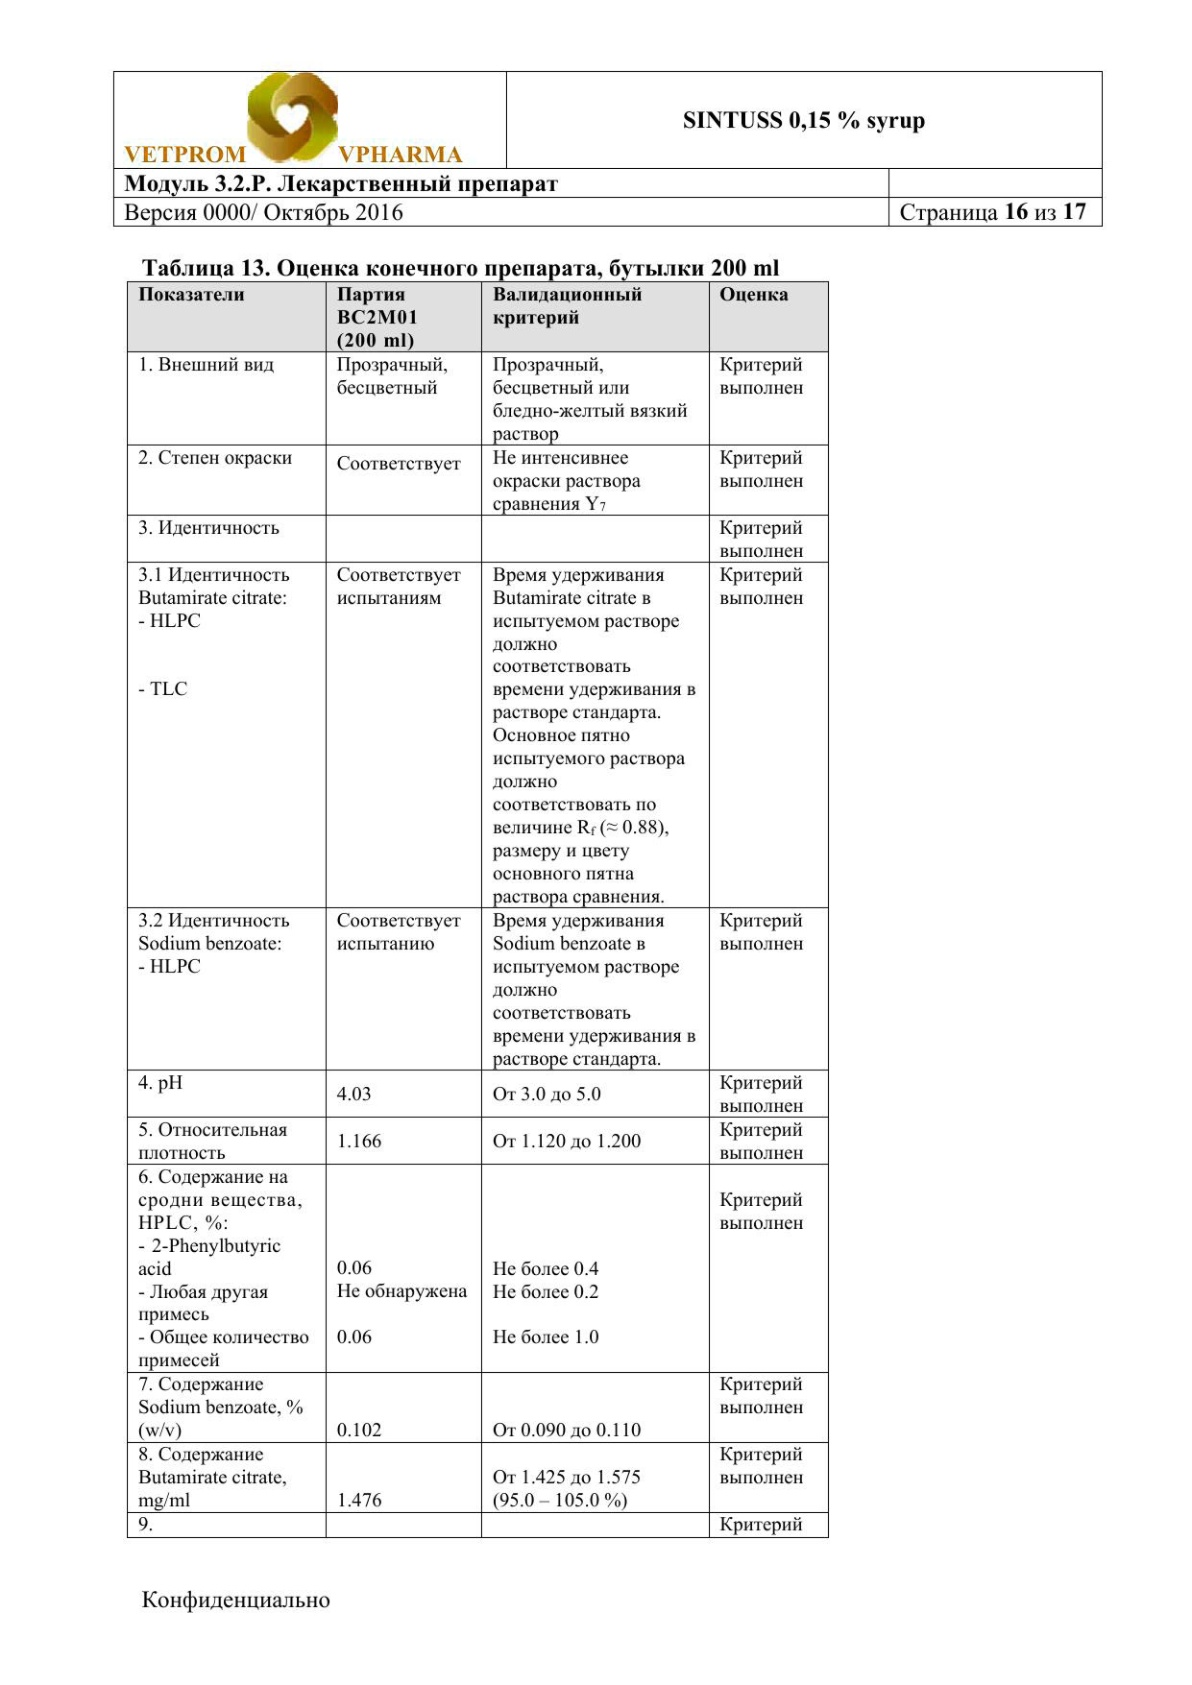full_lined: (126, 280, 829, 1538)
merged_cells: (112, 70, 1106, 228)
